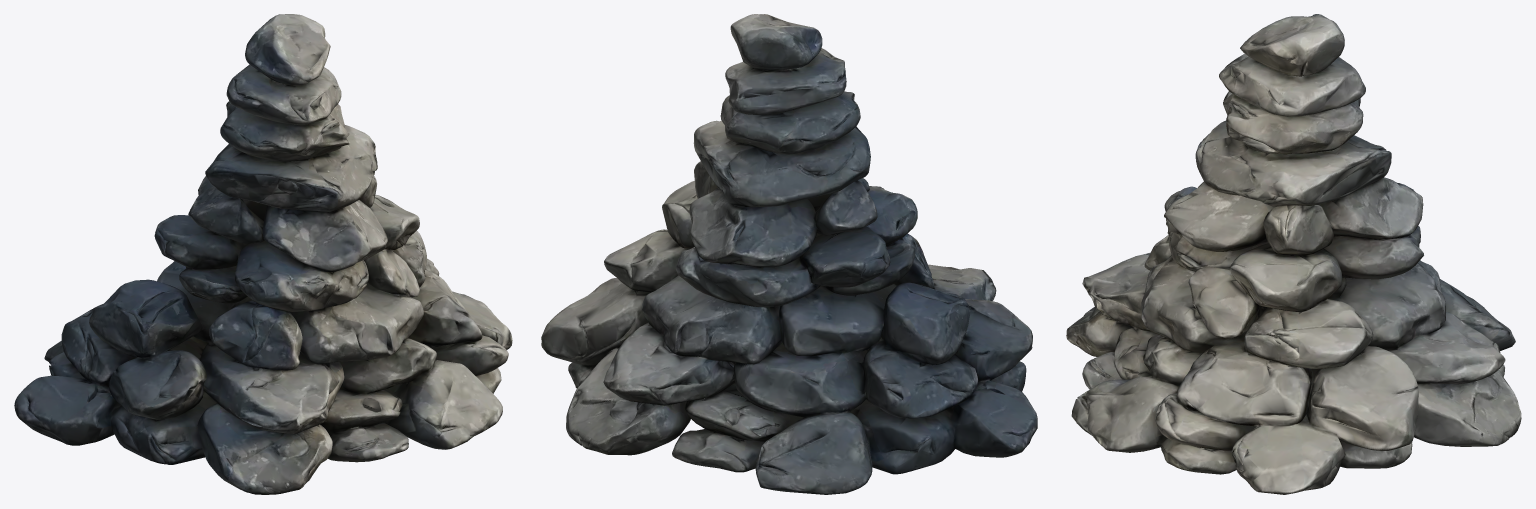
The model's file is summit-cairn.glb.
The picture shows the model from 3 angles, left to right: view 1: azimuth 30°, elevation 25°; view 2: azimuth 150°, elevation 25°; view 3: azimuth 270°, elevation 25°; orthographic projection. The views are drawn at different scales.
Parts seen in each view (by area): view 1: node_232a83f9-e339-46cf-b042-e1605ac876a9; view 2: node_232a83f9-e339-46cf-b042-e1605ac876a9; view 3: node_232a83f9-e339-46cf-b042-e1605ac876a9.
Part boxes in pixels (x1,y1,x2,y2): node_232a83f9-e339-46cf-b042-e1605ac876a9: (14,14,512,494); node_232a83f9-e339-46cf-b042-e1605ac876a9: (541,14,1037,494); node_232a83f9-e339-46cf-b042-e1605ac876a9: (1066,14,1521,494).
Bounding box in the file's own units: 0.9787 × 0.727 × 0.793.
Materials: 1 (1 with a texture image).
